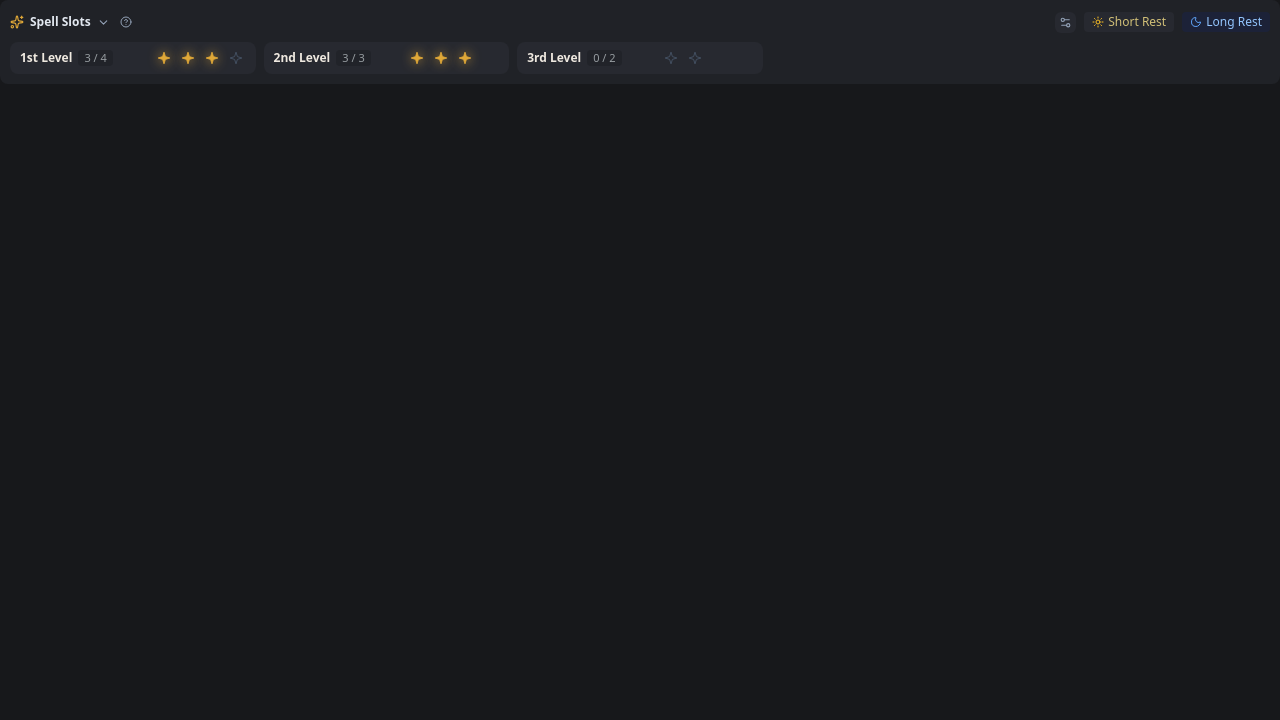
Test: SpellSlotTracker › opens Arcane Recovery modal on Short Rest click for Wizard characters
What coordinates should you click on to do the following:
click the button with aria-label "Short Rest Arcane Recovery"
I would click on:
 (1129, 22)
Its box is left=1084, top=12, right=1174, bottom=32.
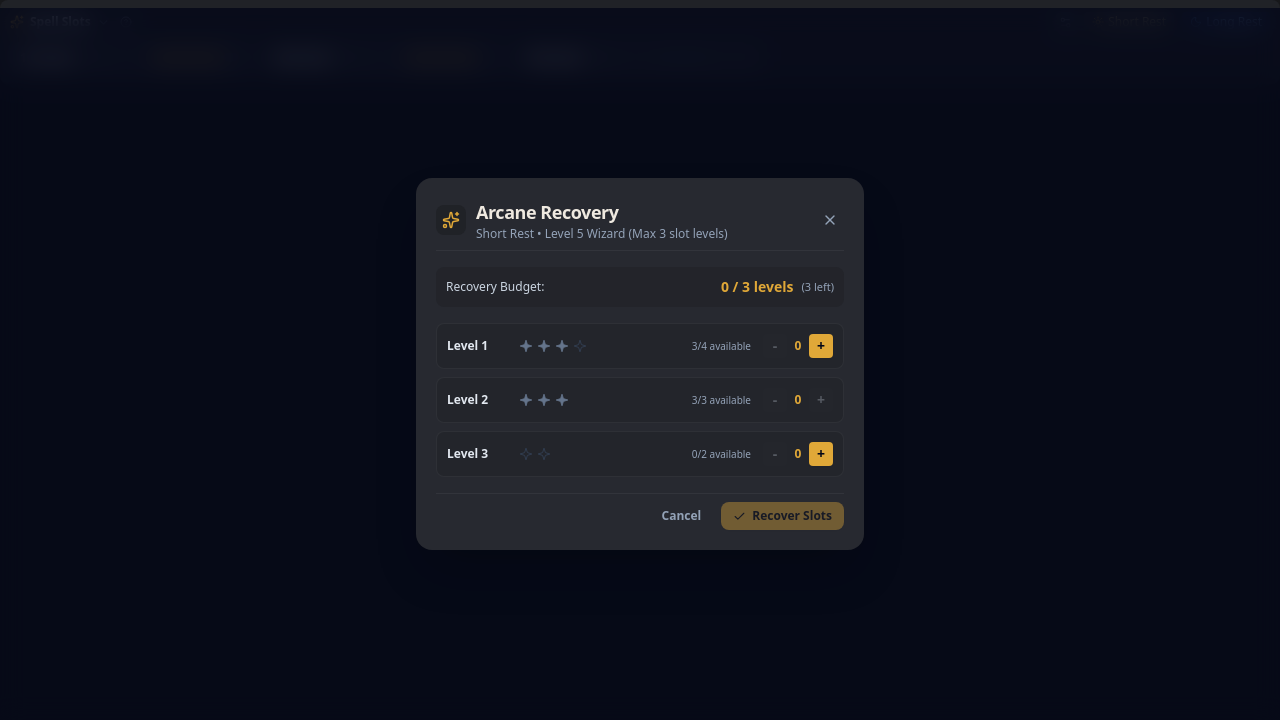
Result: the heading "Arcane Recovery" is shown at left=476, top=200, right=619, bottom=224
Result: the text "Short Rest • Level 5 Wizard (Max 3 slot levels)" is shown at left=476, top=226, right=728, bottom=242
